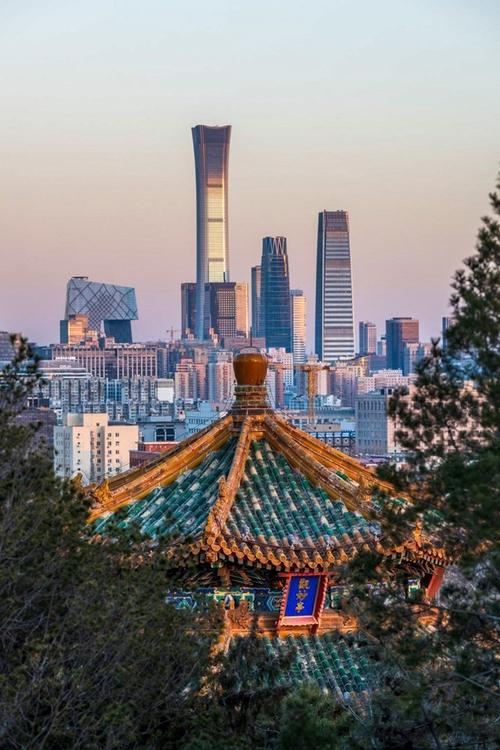buildings: (109, 303, 425, 586), (174, 109, 248, 370), (304, 194, 378, 430), (245, 234, 301, 403)
